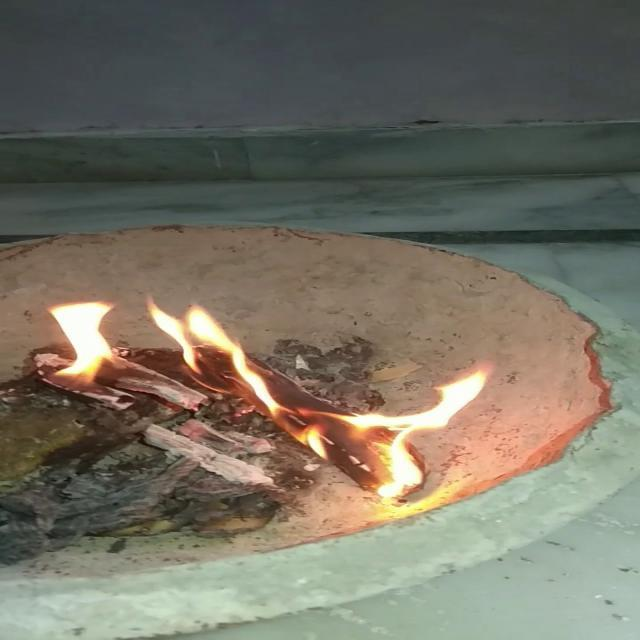Fire: (47, 297, 520, 495)
